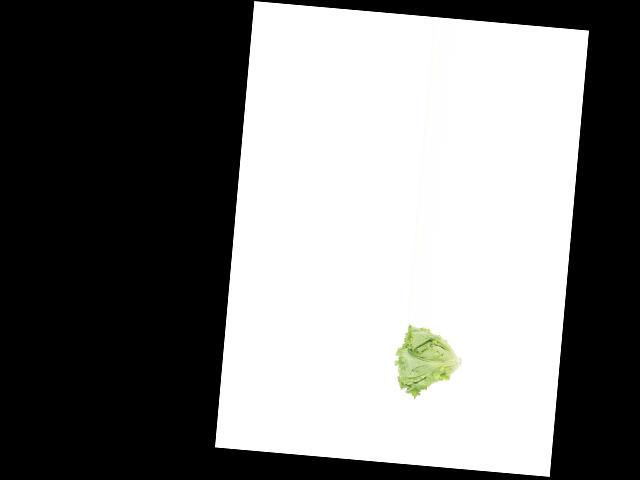lettuce: (388, 322, 466, 399)
